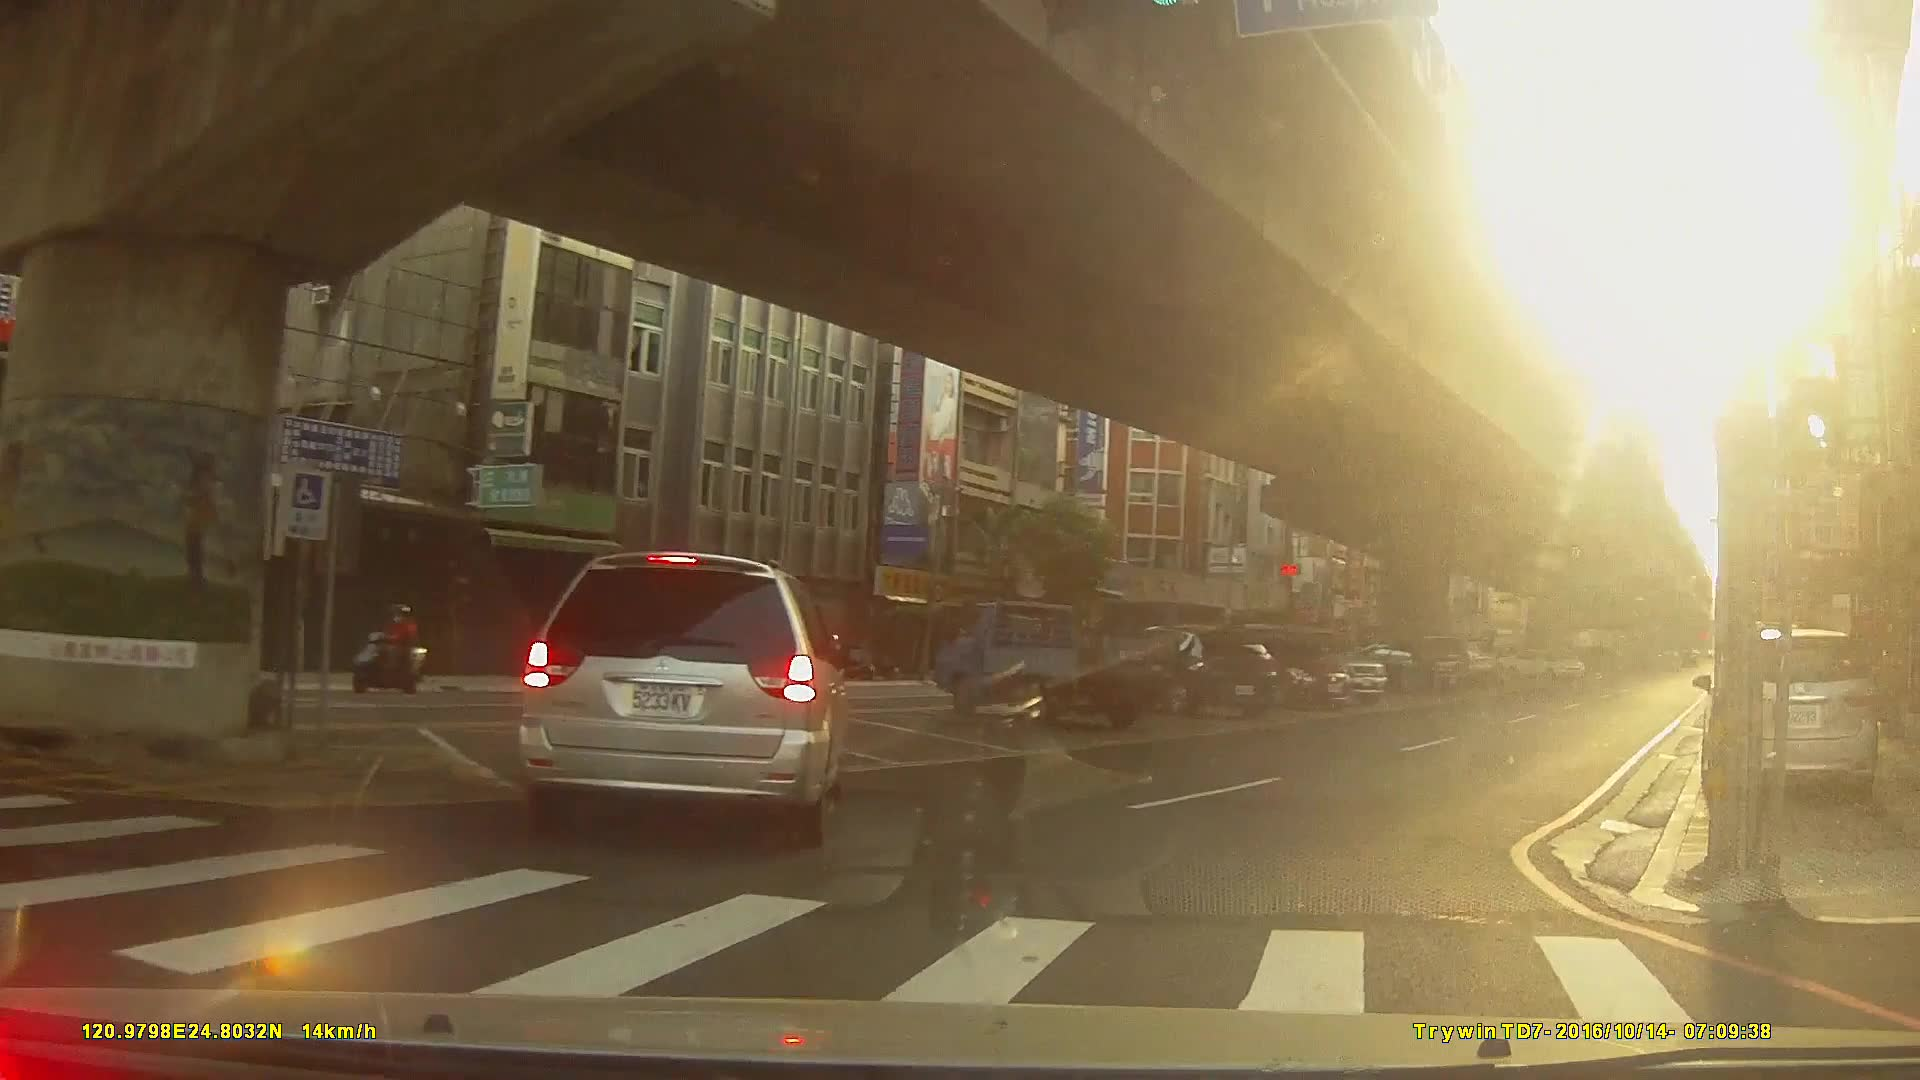rider: (352, 604, 428, 695)
vehicle: (519, 549, 851, 848), (1703, 623, 1880, 808), (934, 595, 1161, 722), (1104, 621, 1275, 717), (1194, 629, 1354, 708), (1334, 639, 1441, 692)
